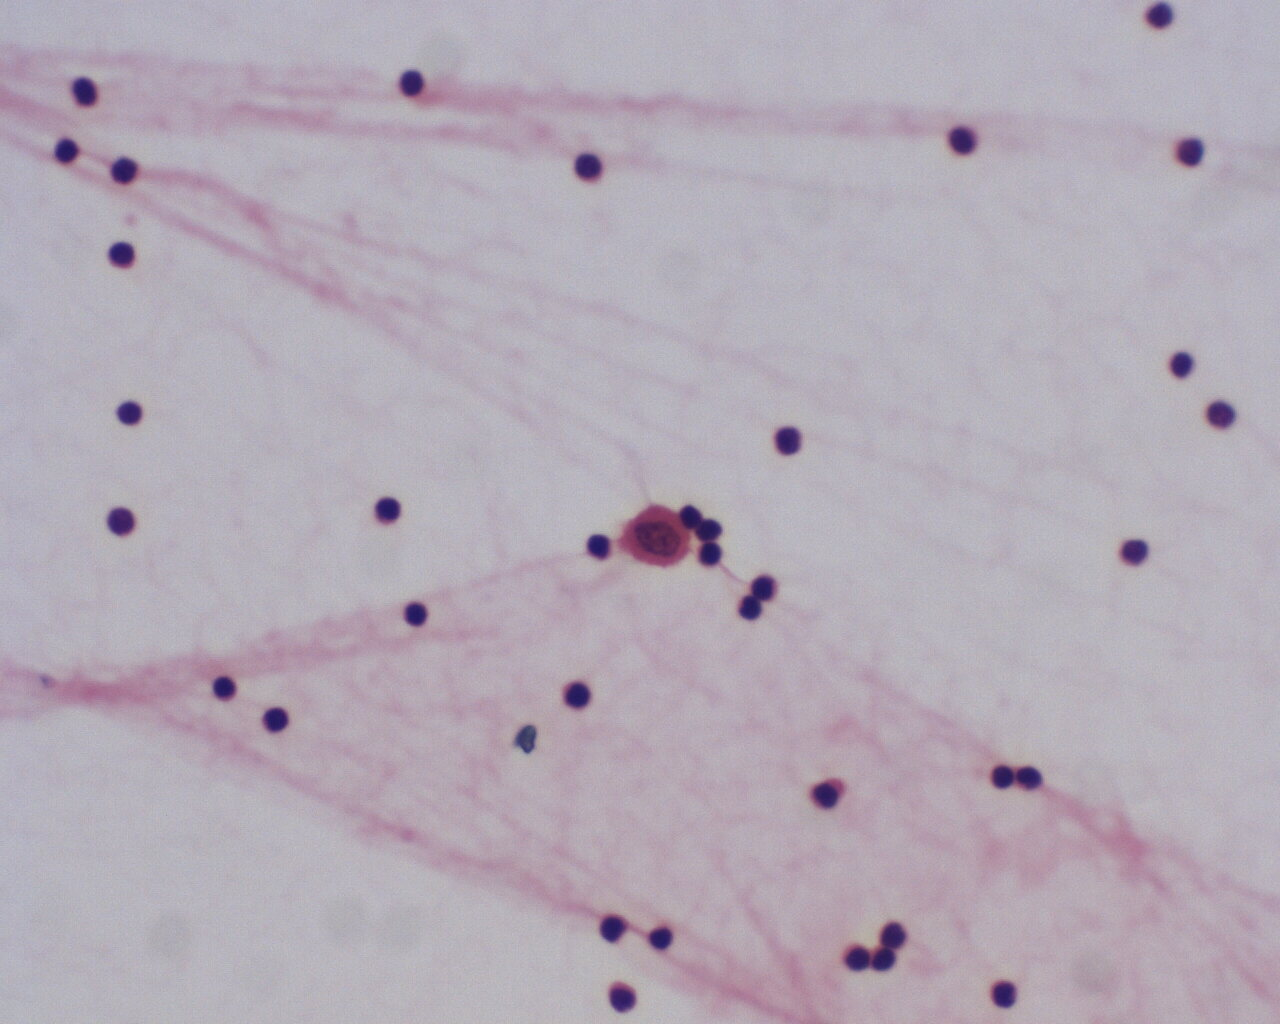ab: (621, 499, 690, 571)
lymph: (567, 148, 611, 189), (390, 63, 430, 100), (596, 909, 634, 948), (257, 697, 294, 738), (104, 501, 137, 545), (1170, 131, 1210, 167), (103, 152, 141, 189), (767, 422, 807, 458), (1159, 347, 1198, 382), (564, 676, 596, 718), (372, 490, 408, 525), (812, 778, 846, 810), (398, 600, 433, 631), (646, 922, 678, 954), (113, 398, 143, 429), (1120, 537, 1153, 566), (988, 760, 1018, 792), (109, 237, 135, 270)
